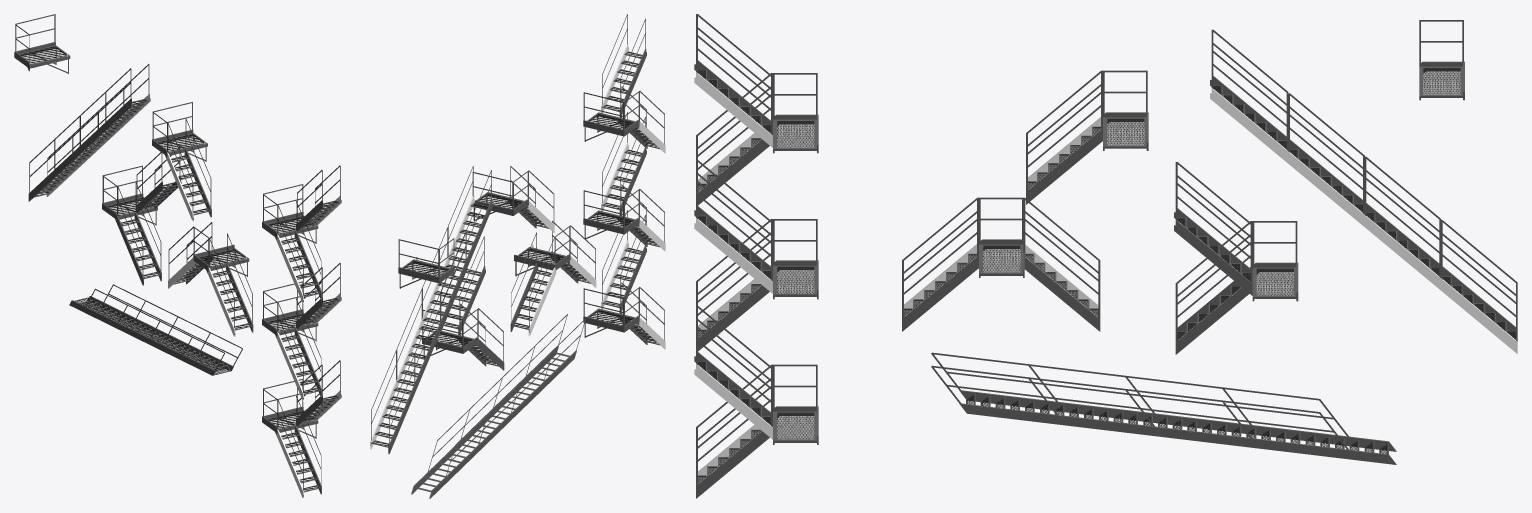
3 views of the same model, side by side, from view 1: azimuth 30°, elevation 25°; view 2: azimuth 150°, elevation 25°; view 3: azimuth 270°, elevation 25° (orthographic). The views are drawn at different scales.
Parts seen in each view (by area): view 1: Group1, Fire_Escape_Stairs9, Fire_Escape_Stairs14, Fire_Escape_Stairs7, Fire_Escape_Stairs1, Fire_Escape_Stairs3, Fire_Escape_Stairs5, Group6, Group4, Fire_Escape_Landing4, Fire_Escape_Landing2, Fire_Escape_Landing3 (+11 smaller); view 2: Group1, Fire_Escape_Stairs10, Fire_Escape_Stairs8, Fire_Escape_Stairs13, Fire_Escape_Stairs12, Fire_Escape_Stairs4, Fire_Escape_Stairs2, Fire_Escape_Stairs6, Fire_Escape_Stairs11, Fire_Escape_Landing2, Group6, Fire_Escape_Landing1 (+11 smaller); view 3: Group1, Fire_Escape_Stairs15, Fire_Escape_Stairs10, Fire_Escape_Stairs8, Fire_Escape_Stairs12, Fire_Escape_Stairs6, Fire_Escape_Stairs2, Fire_Escape_Stairs4, Fire_Escape_Stairs9, Fire_Escape_Stairs11, Fire_Escape_Stairs13, Fire_Escape_Stairs7 (+11 smaller).
Part boxes in pixels (x1=…): Group1: x1=69, y1=284, x2=242, y2=375; Fire_Escape_Stairs9: x1=166, y1=118, x2=211, y2=221; Fire_Escape_Stairs14: x1=116, y1=182, x2=161, y2=285; Fire_Escape_Stairs7: x1=208, y1=233, x2=253, y2=336; Fire_Escape_Stairs1: x1=276, y1=395, x2=321, y2=498; Fire_Escape_Stairs3: x1=276, y1=201, x2=321, y2=303; Fire_Escape_Stairs5: x1=276, y1=298, x2=321, y2=401; Group6: x1=14, y1=14, x2=70, y2=74; Group4: x1=152, y1=102, x2=207, y2=161; Fire_Escape_Landing4: x1=102, y1=165, x2=181, y2=225; Fire_Escape_Landing2: x1=262, y1=184, x2=341, y2=243; Fire_Escape_Landing3: x1=262, y1=281, x2=341, y2=341; Group1: x1=411, y1=314, x2=585, y2=498; Fire_Escape_Stairs10: x1=396, y1=288, x2=441, y2=391; Fire_Escape_Stairs8: x1=510, y1=232, x2=556, y2=336; Fire_Escape_Stairs13: x1=370, y1=350, x2=415, y2=454; Fire_Escape_Stairs12: x1=448, y1=166, x2=492, y2=267; Fire_Escape_Stairs4: x1=601, y1=14, x2=646, y2=117; Fire_Escape_Stairs2: x1=601, y1=210, x2=646, y2=313; Fire_Escape_Stairs6: x1=601, y1=112, x2=646, y2=215; Fire_Escape_Stairs11: x1=422, y1=227, x2=467, y2=328; Fire_Escape_Landing2: x1=583, y1=47, x2=639, y2=141; Group6: x1=398, y1=238, x2=454, y2=288; Fire_Escape_Landing1: x1=583, y1=287, x2=639, y2=337; Group1: x1=931, y1=352, x2=1396, y2=464; Fire_Escape_Stairs15: x1=1174, y1=162, x2=1252, y2=295; Fire_Escape_Stairs10: x1=1362, y1=156, x2=1441, y2=290; Fire_Escape_Stairs8: x1=1023, y1=197, x2=1100, y2=331; Fire_Escape_Stairs12: x1=1210, y1=29, x2=1288, y2=163; Fire_Escape_Stairs6: x1=694, y1=160, x2=772, y2=293; Fire_Escape_Stairs2: x1=694, y1=305, x2=772, y2=439; Fire_Escape_Stairs4: x1=694, y1=14, x2=772, y2=147; Fire_Escape_Stairs9: x1=1026, y1=70, x2=1102, y2=204; Fire_Escape_Stairs11: x1=1286, y1=93, x2=1364, y2=226; Fire_Escape_Stairs13: x1=1441, y1=220, x2=1517, y2=353; Fire_Escape_Stairs7: x1=902, y1=197, x2=978, y2=331.
Bounding box in the file's own units: 2626 × 11157 × 17152.
3 materials, 1 textured.
